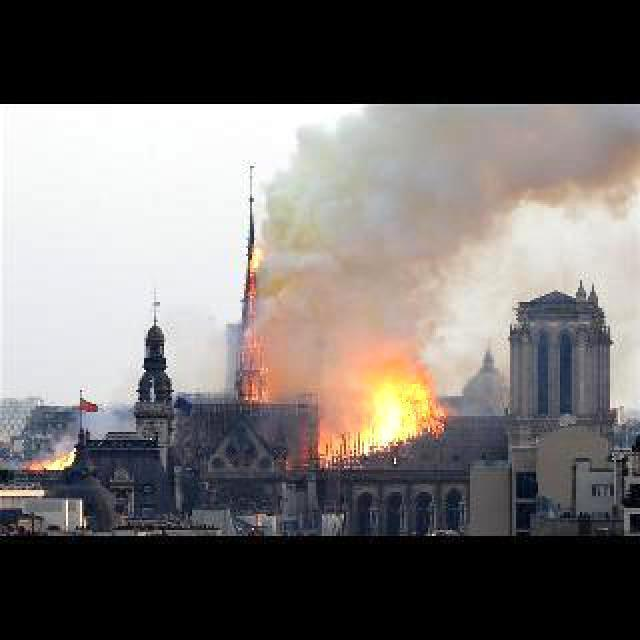Fire: (356, 353, 460, 453), (23, 444, 81, 472)
Smoke: (242, 105, 463, 393), (467, 105, 639, 252)
